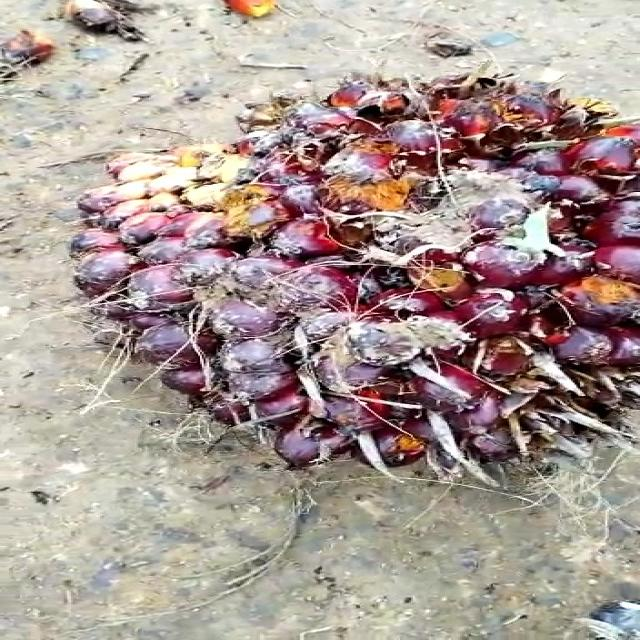palm oil: (56, 55, 640, 512)
